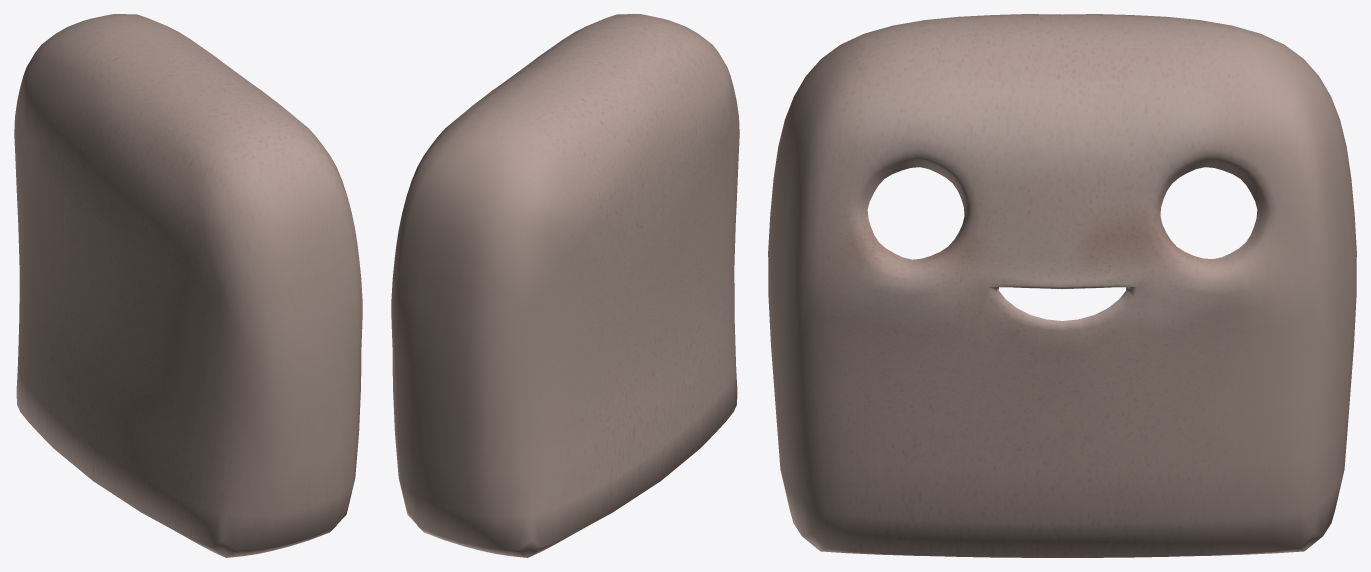
File: dude.glb
3 views of the same model, side by side, from view 1: azimuth 30°, elevation 25°; view 2: azimuth 150°, elevation 25°; view 3: azimuth 270°, elevation 25° (orthographic). The views are drawn at different scales.
Parts seen in each view (by area): view 1: skin; view 2: skin; view 3: skin.
Part boxes in pixels (bbox=[...]): skin: bbox=[14, 14, 362, 557]; skin: bbox=[391, 14, 739, 557]; skin: bbox=[768, 14, 1356, 557].
Bounding box in the file's own units: 0.2648 × 0.5304 × 0.5732.
1 material, 1 textured.
